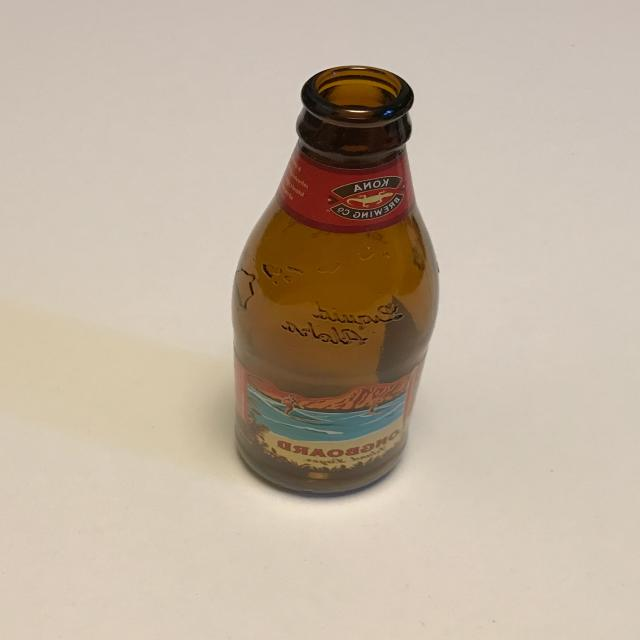glass: (228, 58, 446, 505)
